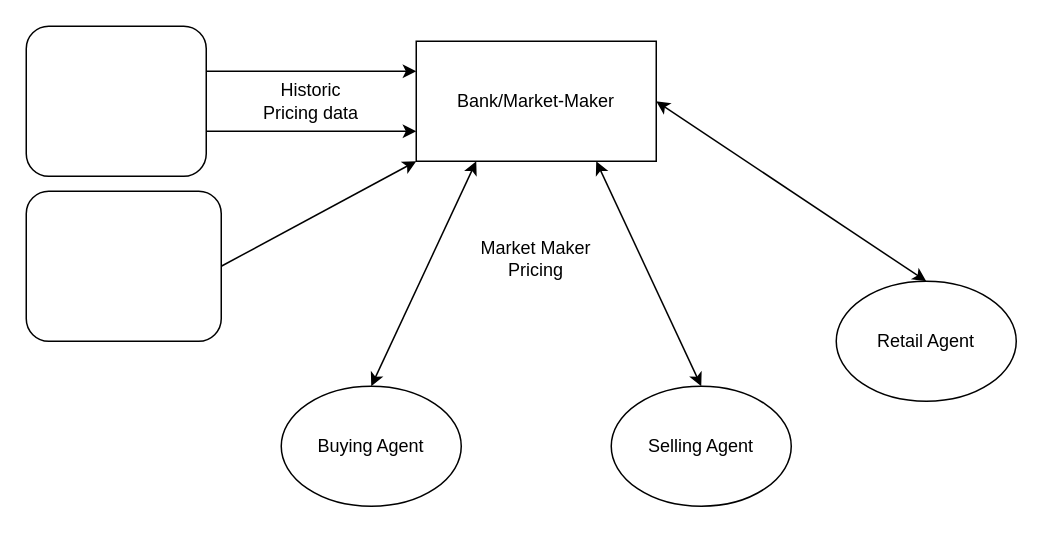
This 1043x533 diagram has some shape labels left out. Each missing label, with the box of its shape:
EBS Reuters Other Electronic Brokers: (25, 25, 206, 176)
Other Data (Interest Rate Parity, Inflation Rates, Unemployment Rates etc.): (25, 190, 221, 341)
